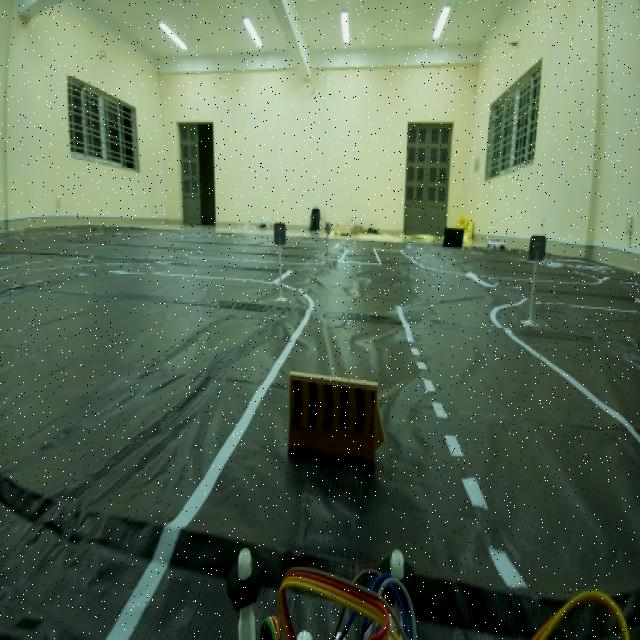roadblock: (282, 362, 388, 482)
